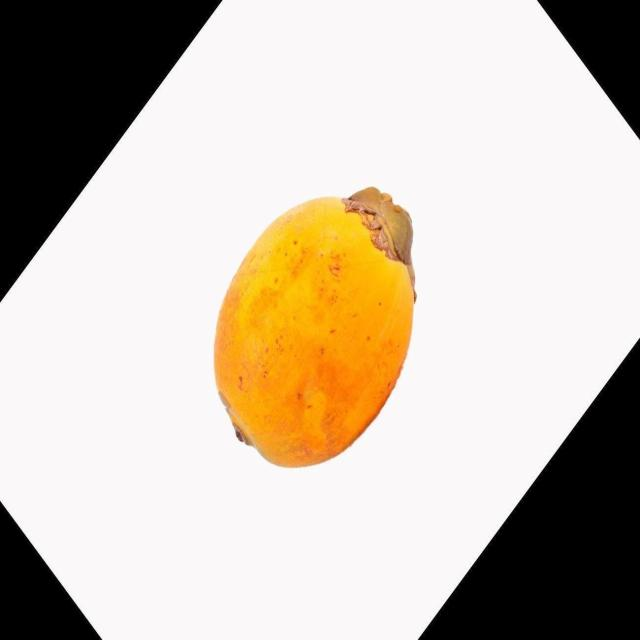good: (212, 187, 417, 471)
